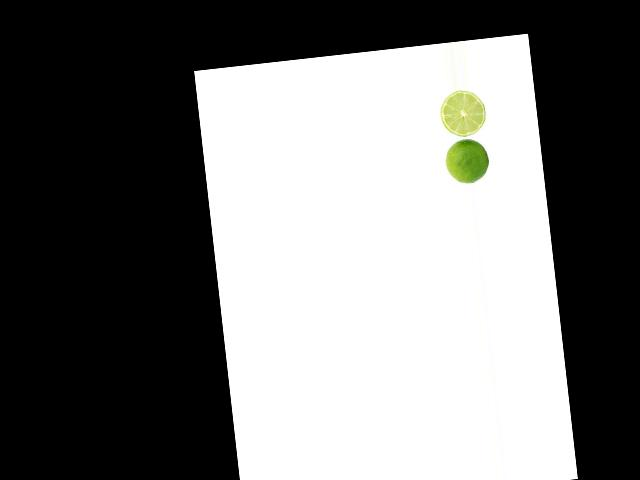lemon: (444, 137, 493, 184)
